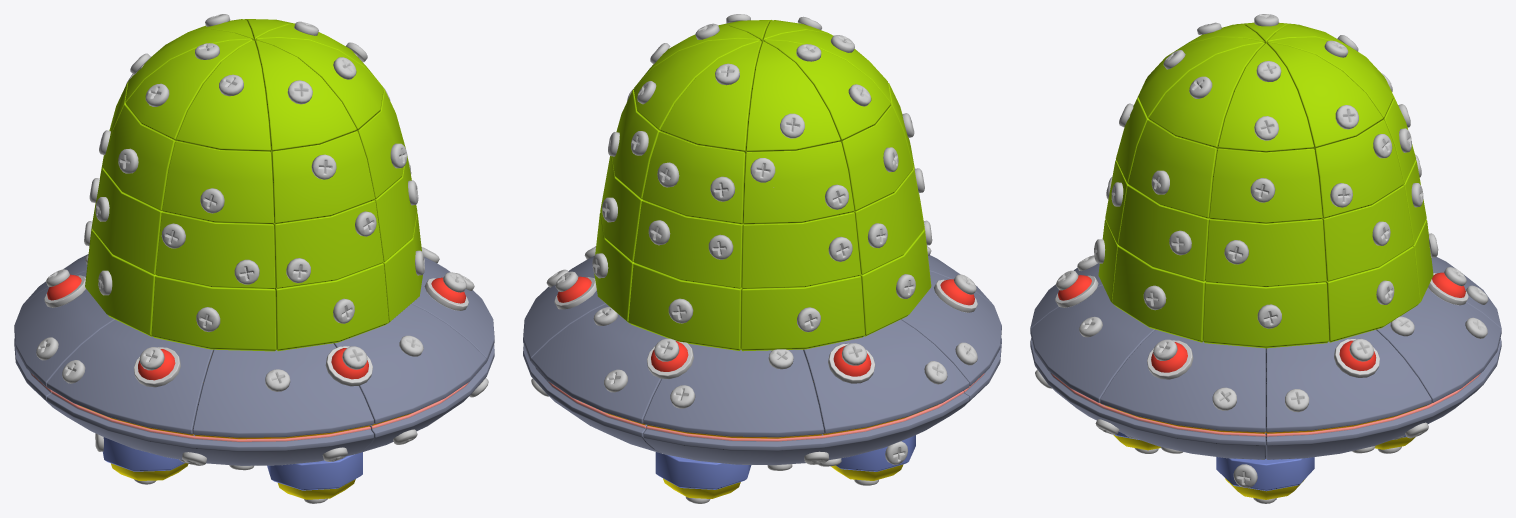
File: Level_StrangerV_33.fbx
3 renders of one model, left to right at view 1: azimuth 30°, elevation 25°; view 2: azimuth 150°, elevation 25°; view 3: azimuth 270°, elevation 25°, orthographic. The views are drawn at different scales.
Parts seen in each view (by area): view 1: Strange_Visitor_63, Strange_Visitor_64, Strange_Visitor_62, Strange_Visitor_66, Strange_Visitor_26, Strange_Visitor_10, Strange_Visitor_18, Strange_Visitor_11, Strange_Visitor_27, Strange_Visitor_2, Strange_Visitor_19, Strange_Visitor_3 (+21 smaller); view 2: Strange_Visitor_58, Strange_Visitor_65, Strange_Visitor_59, Strange_Visitor_67, Strange_Visitor_32, Strange_Visitor_24, Strange_Visitor_16, Strange_Visitor_31, Strange_Visitor_8, Strange_Visitor_15, Strange_Visitor_7, Strange_Visitor_23 (+21 smaller); view 3: Strange_Visitor_60, Strange_Visitor_61, Strange_Visitor_62, Strange_Visitor_29, Strange_Visitor_13, Strange_Visitor_59, Strange_Visitor_21, Strange_Visitor_5, Strange_Visitor_12, Strange_Visitor_4, Strange_Visitor_30, Strange_Visitor_22 (+23 smaller).
Boxes of the visible parts, x1,y1,x2,y2 form: Strange_Visitor_63: (192, 343, 374, 439); Strange_Visitor_64: (47, 320, 213, 435); Strange_Visitor_62: (334, 304, 486, 425); Strange_Visitor_66: (47, 391, 374, 465); Strange_Visitor_26: (151, 276, 276, 351); Strange_Visitor_10: (162, 141, 274, 224); Strange_Visitor_18: (155, 212, 275, 288); Strange_Visitor_11: (271, 131, 374, 223); Strange_Visitor_27: (274, 263, 388, 351); Strange_Visitor_2: (176, 40, 271, 151); Strange_Visitor_19: (273, 200, 383, 288); Strange_Visitor_3: (255, 40, 356, 152); Strange_Visitor_58: (643, 343, 824, 438); Strange_Visitor_65: (803, 319, 969, 435); Strange_Visitor_59: (531, 304, 668, 425); Strange_Visitor_67: (643, 391, 969, 464); Strange_Visitor_32: (740, 276, 865, 351); Strange_Visitor_24: (741, 212, 861, 288); Strange_Visitor_16: (742, 141, 854, 224); Strange_Visitor_31: (628, 263, 742, 350); Strange_Visitor_8: (745, 41, 840, 151); Strange_Visitor_15: (642, 131, 745, 224); Strange_Visitor_7: (660, 41, 761, 153); Strange_Visitor_23: (633, 200, 743, 288); Strange_Visitor_60: (1266, 330, 1431, 433); Strange_Visitor_61: (1100, 330, 1265, 433); Strange_Visitor_62: (1030, 285, 1155, 404); Strange_Visitor_29: (1202, 282, 1329, 348); Strange_Visitor_13: (1209, 148, 1322, 223); Strange_Visitor_59: (1376, 288, 1501, 404); Strange_Visitor_21: (1205, 219, 1326, 286); Strange_Visitor_5: (1217, 43, 1314, 152); Strange_Visitor_12: (1128, 120, 1217, 218); Strange_Visitor_4: (1149, 42, 1264, 148); Strange_Visitor_30: (1326, 246, 1419, 342); Strange_Visitor_22: (1322, 185, 1413, 281).
Size of the model in its own units: 6.3 by 6.09 by 6.3.
